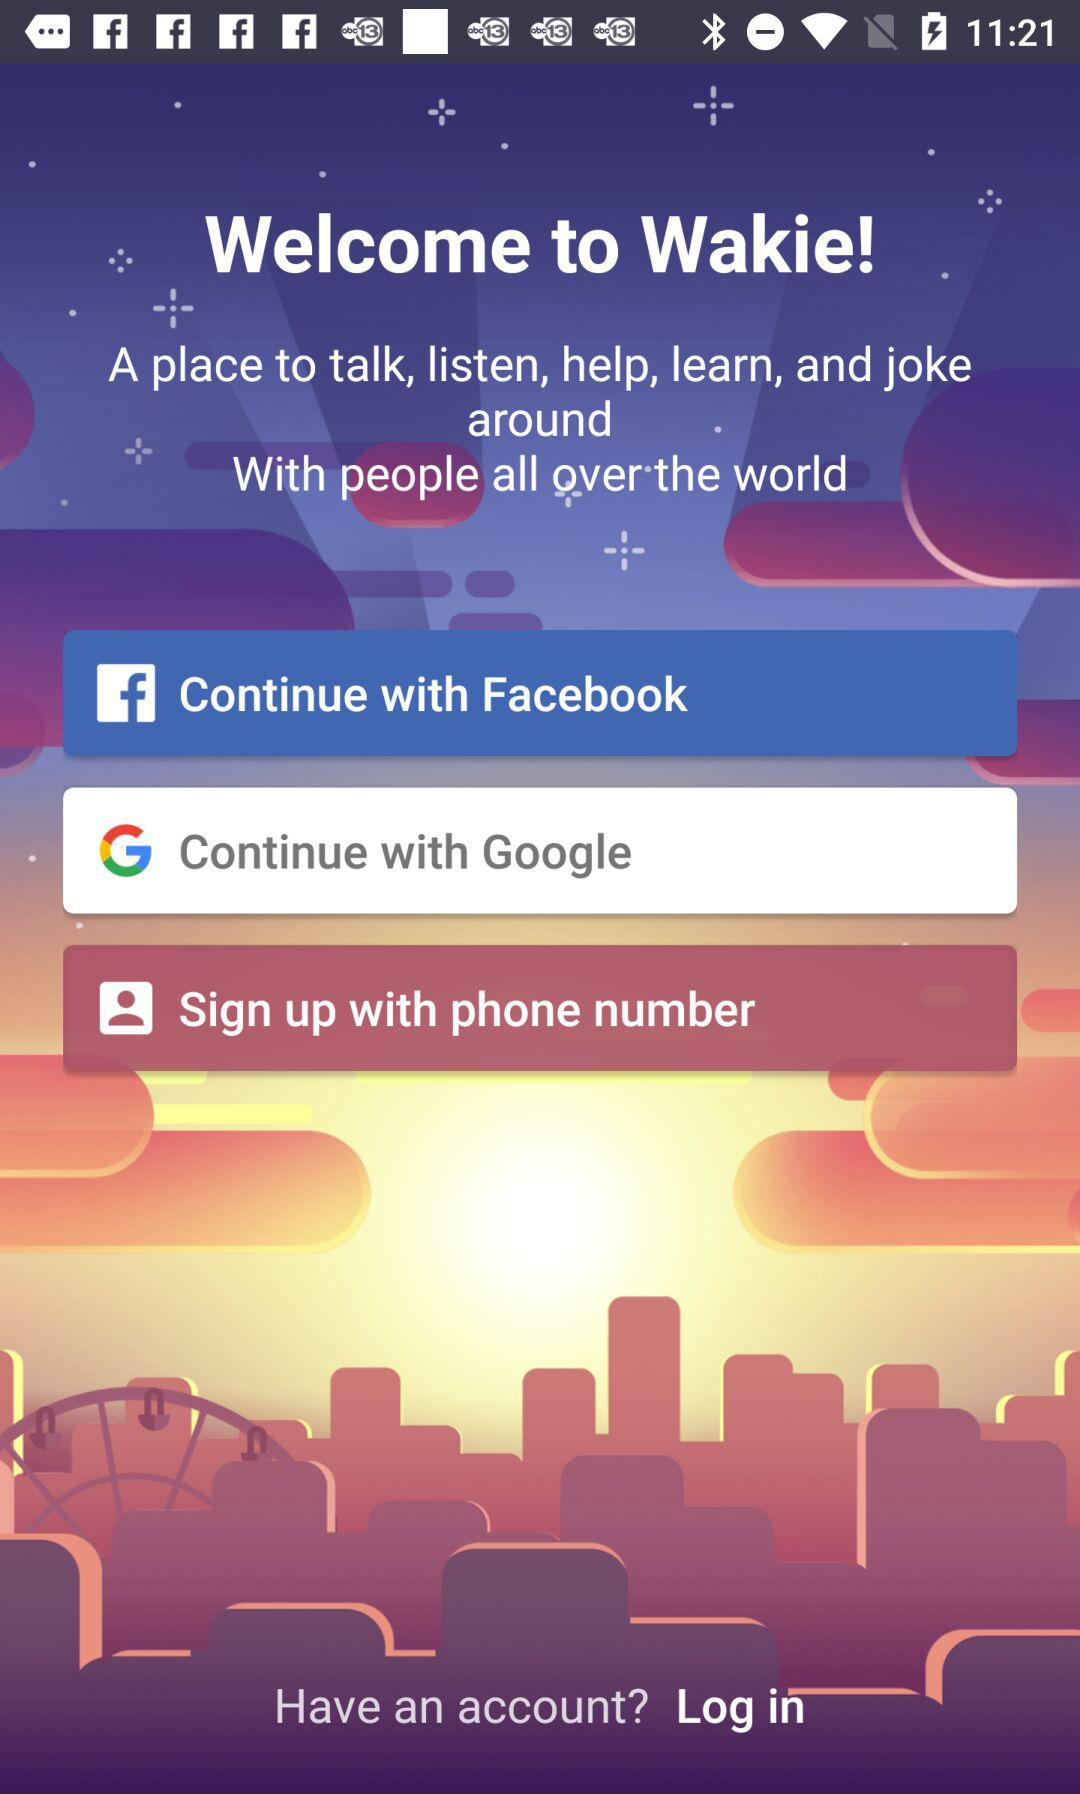BackgroundImage: (1, 64, 1080, 1794)
Text: (108, 343, 972, 504), (205, 213, 874, 276), (277, 1686, 650, 1724), (678, 1686, 805, 1734)
TextButton: (64, 787, 1019, 915), (64, 944, 1017, 1073), (64, 630, 1019, 757)
UpperTaskBar: (1, 1, 1080, 64)
